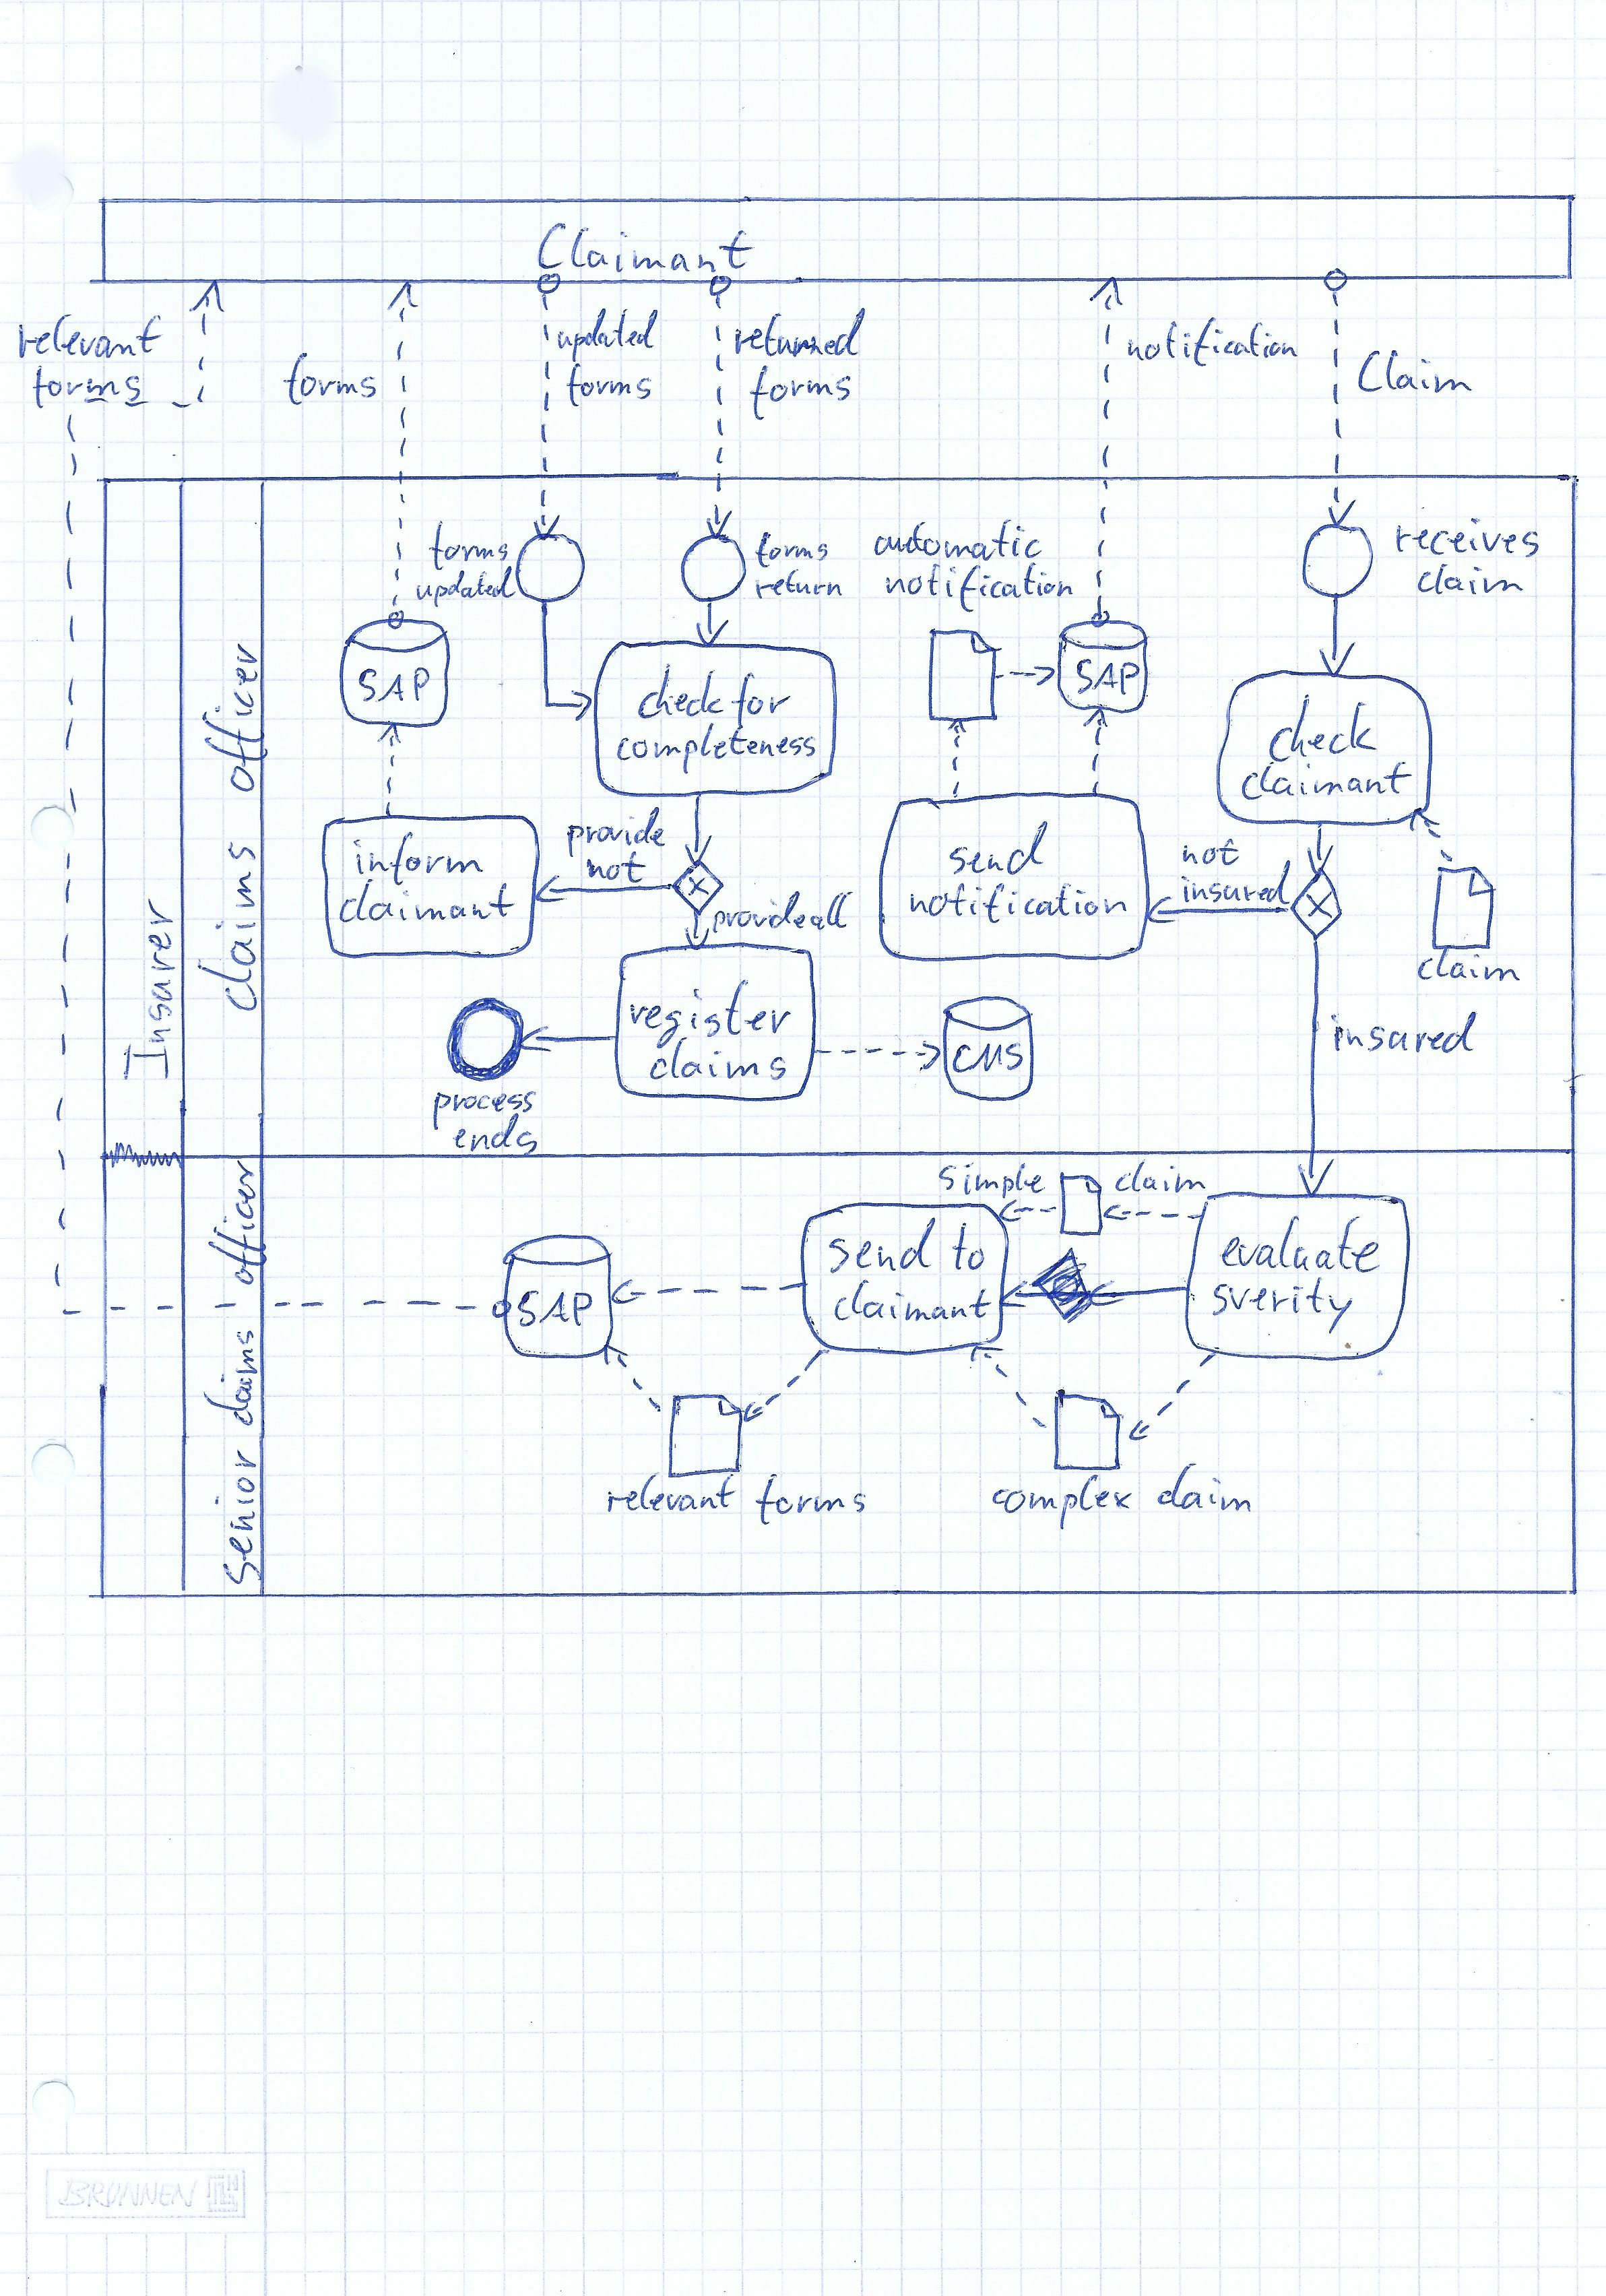CMS: (954, 1038, 1024, 1078)
Claim: (1344, 331, 1473, 408)
Claimant: (537, 222, 753, 276)
Insurer: (120, 899, 181, 1073)
Process: (432, 1087, 535, 1115)
SAP: (513, 1282, 605, 1324), (356, 666, 436, 705), (1072, 658, 1146, 696)
Senior: (218, 1432, 263, 1582)
Simple: (940, 1164, 1046, 1199)
Siverity: (1208, 1279, 1358, 1329)
all: (806, 892, 853, 935)
automatic: (868, 522, 1048, 562)
check: (1261, 693, 1379, 771), (631, 675, 718, 724)
claim: (1161, 1478, 1257, 1520), (1412, 564, 1526, 598), (1416, 954, 1522, 987), (1114, 1165, 1208, 1195)
claimant: (337, 881, 520, 932), (1238, 761, 1414, 804), (830, 1284, 997, 1326)
claims: (204, 832, 265, 1015), (650, 1049, 792, 1085), (213, 1329, 258, 1425)
completeness: (616, 728, 820, 768)
complex: (987, 1478, 1149, 1521)
ends: (450, 1124, 542, 1157)
evaluate: (1217, 1221, 1390, 1277)
for: (725, 675, 795, 724)
forms: (746, 366, 854, 415), (561, 363, 664, 412), (755, 1479, 868, 1521), (277, 366, 382, 408), (28, 370, 148, 405), (424, 532, 513, 572), (752, 532, 837, 567)
inform: (349, 834, 487, 883)
insured: (1325, 1017, 1482, 1059), (1174, 878, 1285, 914)
not: (1182, 839, 1247, 869), (589, 855, 649, 885)
notification: (1119, 323, 1303, 368), (908, 888, 1133, 923), (888, 565, 1081, 604)
officer: (211, 640, 267, 792), (216, 1153, 265, 1288)
provide: (704, 892, 804, 939), (567, 811, 675, 853)
receives: (1392, 522, 1543, 560)
register: (626, 994, 792, 1036)
relevant: (10, 307, 171, 361), (602, 1479, 746, 1521)
return: (755, 569, 847, 600)
returned: (725, 312, 870, 361)
send: (828, 1230, 940, 1277), (949, 829, 1046, 876)
to: (949, 1228, 992, 1277)
updated: (553, 309, 668, 356), (417, 562, 518, 605)
